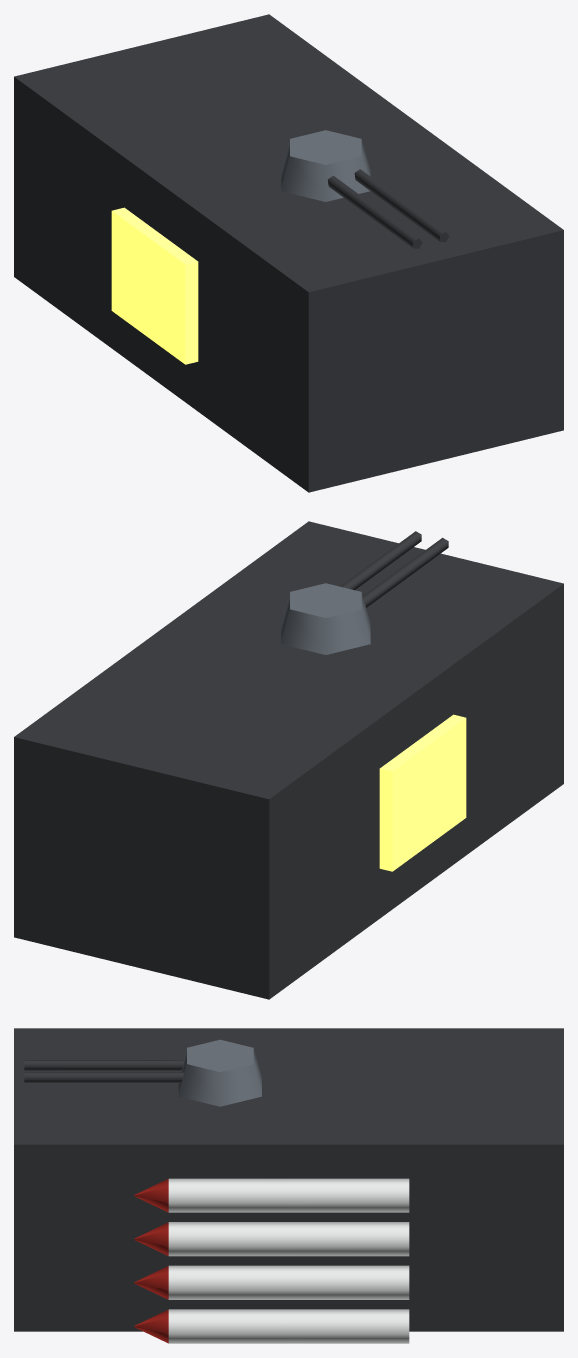
File: space_orbital_arsenal_t2_lod2.glb
3 views of the same model, one above another, from view 1: azimuth 30°, elevation 25°; view 2: azimuth 150°, elevation 25°; view 3: azimuth 270°, elevation 25° (orthographic). The views are drawn at different scales.
Visible parts, largest first — view 1: body, turret_0; view 2: body, turret_0; view 3: body, turret_0.
Part boxes in pixels (<box>): body: <box>14,14,563,492</box>; turret_0: <box>281,130,449,248</box>; body: <box>14,521,563,999</box>; turret_0: <box>281,531,448,654</box>; body: <box>14,1028,563,1343</box>; turret_0: <box>24,1039,261,1106</box>.
Bounding box in the file's own units: 9.2 × 7.11 × 16.
